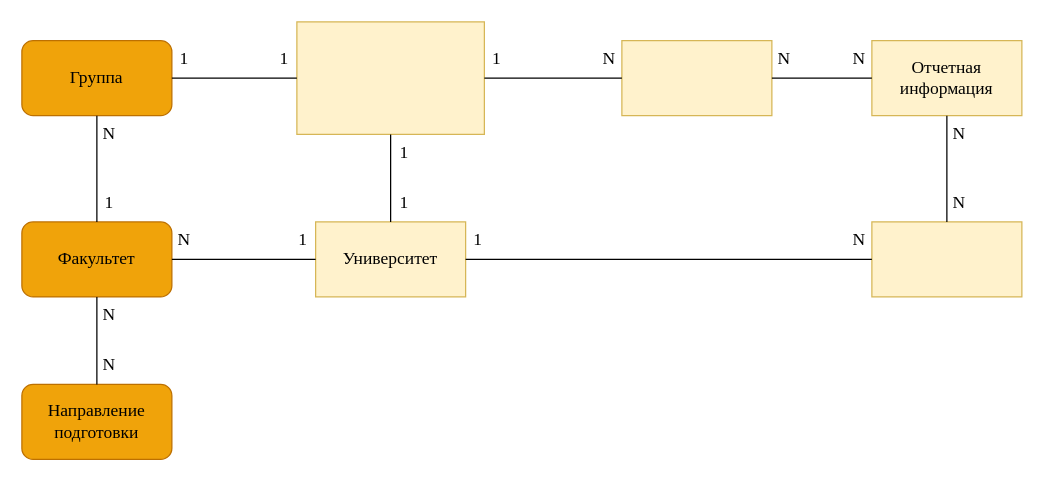
Some shapes in this 1044 by 481 pixel diagram are drawn without their labels. The shapes that lost their labels are listed below. From the top down, each one's box as (x1, y1, x2, y2) in pixels, then its label:
(296, 21, 484, 134): Студент
(621, 39, 772, 116): Академическая задолженность
(871, 221, 1022, 297): Сотрудник
